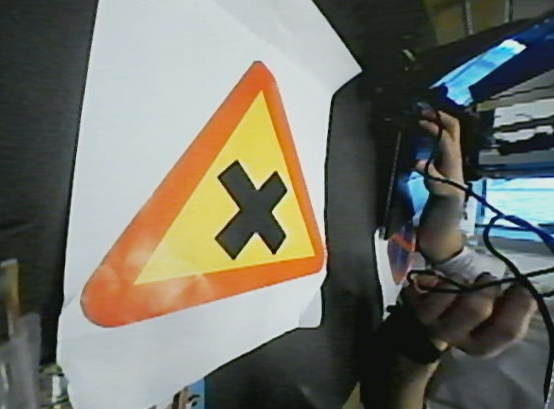junction: (71, 49, 327, 313)
